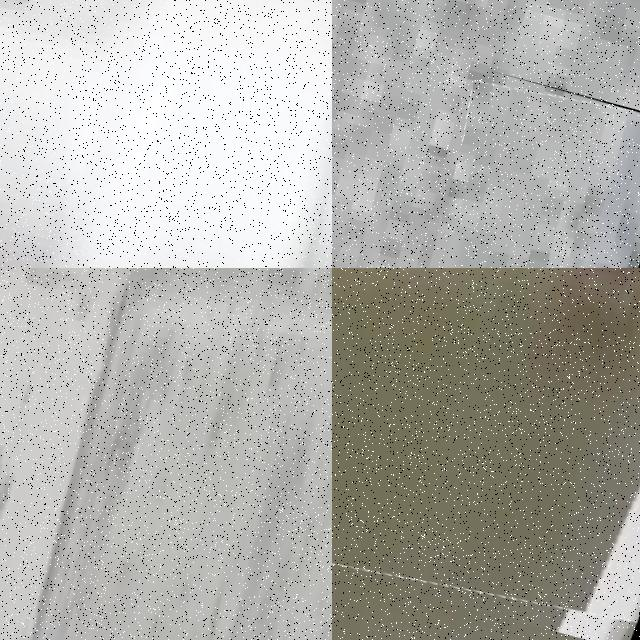drone: (0, 268, 332, 640), (332, 268, 640, 640), (0, 0, 332, 268), (416, 68, 640, 268)
